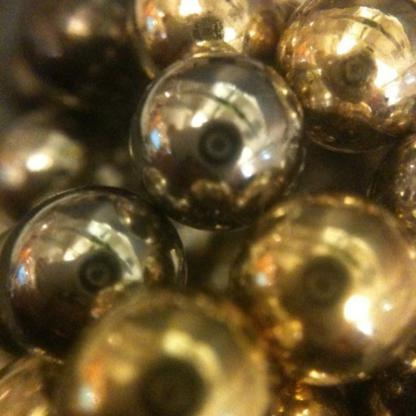Ball: (0, 0, 415, 415), (130, 50, 321, 262)
